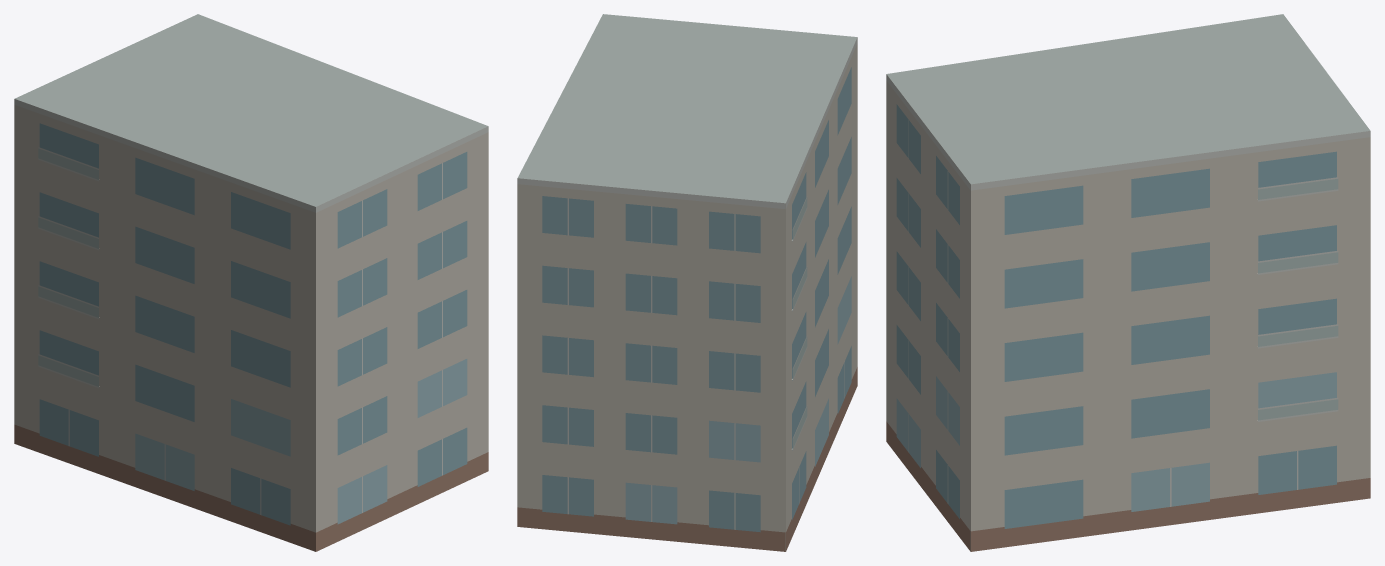
The model's file is survey-upis-32720371.glb.
The picture shows the model from 3 angles, left to right: view 1: azimuth 30°, elevation 25°; view 2: azimuth 150°, elevation 25°; view 3: azimuth 270°, elevation 25°; orthographic projection. The views are drawn at different scales.
Visible parts, largest first — view 1: survey-upis-32720371.tmp; view 2: survey-upis-32720371.tmp; view 3: survey-upis-32720371.tmp.
Boxes of the visible parts, x1,y1,x2,y2 form: survey-upis-32720371.tmp: (14,14,488,551); survey-upis-32720371.tmp: (517,14,857,551); survey-upis-32720371.tmp: (886,14,1370,551).
Size of the model in its own units: 14.22 by 14.3 by 17.09.
